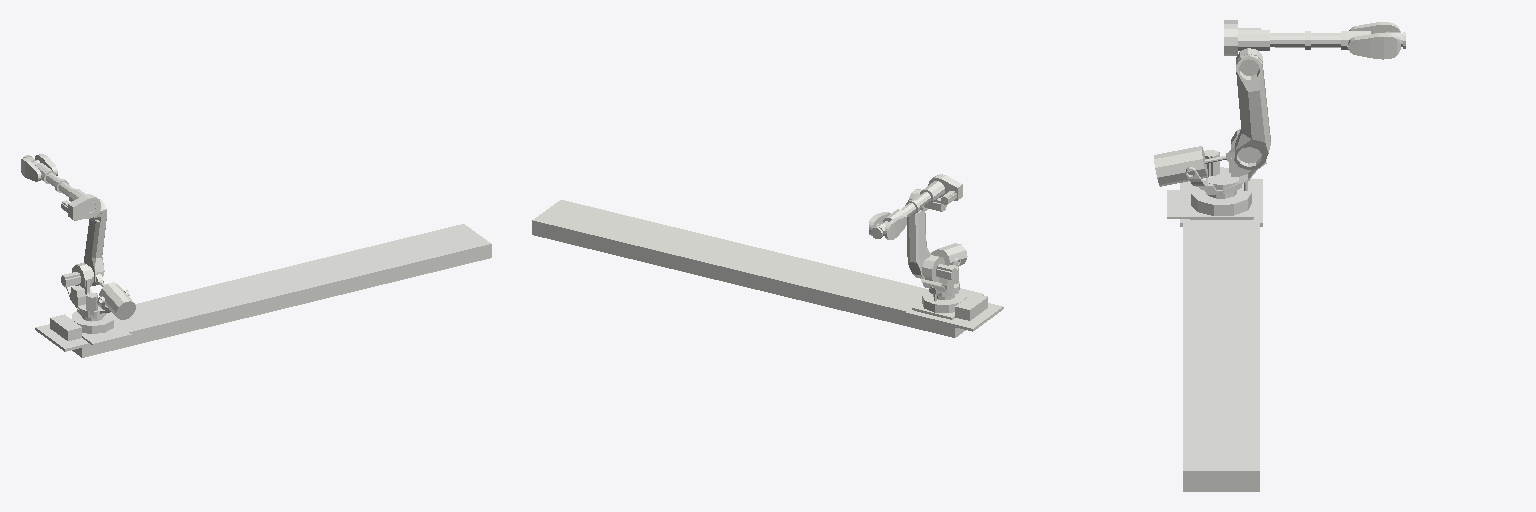
URDF robot description (aurora):
<?xml version="1.0" ?>
<!-- =================================================================================== -->
<!-- |    This document was autogenerated by xacro from /root/catkin_ws/src/abb_irbt6004_670_moveit_config/urdf/abb_irb6700_175_305_ibois.xacro | -->
<!-- |    EDITING THIS FILE BY HAND IS NOT RECOMMENDED                                 | -->
<!-- =================================================================================== -->
<robot name="aurora">
    <link name="world" />
    <joint name="world_joint" type="fixed">
        <parent link="world" />
        <child link="rob1_axis" />
        <!--<origin xyz="0 0.0 0.0" rpy="0.0 0.0 3.14159265358979323846" />-->
        <origin rpy="-0.00031264124506612164 -0.00031250271915146547 0.0004431808433690596" xyz="0 0.0 0.0" />
        <!--Update for the base frame of the track -->
    </joint>
    <!-- Conversion were obtained from http://www.e-paint.co.uk/Lab_values.asp
       unless otherwise stated. -->
    <link name="rob1_axis">
        <inertial>
            <mass value="120" />
            <inertia ixx="-4.98000" ixy="-0.00000" ixz="2.70000" iyy="-5.95200" iyz="-0.00000" izz="0.82800" />
            <origin xyz="0 0 0" rpy="0 0 0" />
        </inertial>
        <visual>
            <origin xyz="3.35 0.0 0.0" />
            <geometry>
                <mesh filename="package://abb_irbt6004_670_moveit_config/meshes/abb_irbt6004_670/visual/axis.stl" />
            </geometry>
            <material name="">
                <color rgba="0.9254902 0.9254902 0.9058824 1" />
            </material>
        </visual>
        <collision>
            <origin xyz="3.35 0.0 0.0" />
            <geometry>
                <mesh filename="package://abb_irbt6004_670_moveit_config/meshes/abb_irbt6004_670/collision/axis.stl" />
            </geometry>
        </collision>
    </link>
    <joint name="rob1_linear_axis_joint" type="prismatic">
        <parent link="rob1_axis" />
        <child link="rob1_pedestal" />
        <origin rpy="0 0 0" xyz="0 0 0" />
        <!--track origin or translation from origin-->
        <axis xyz="1 0 0" />
        <limit effort="100000" lower="0" upper="6.700" velocity="2.618" />
        <!--track limits or length-->
        <dynamics damping="0.2" friction="0" />
    </joint>
    <link name="rob1_pedestal">
        <inertial>
            <origin xyz="0.0 0.0 0.0" rpy="0 0 0" />
            <mass value="120.00000" />
            <inertia ixx="-4.98000" ixy="-0.00000" ixz="2.70000" iyy="-5.95200" iyz="-0.00000" izz="0.82800" />
        </inertial>
        <visual>
            <geometry>
                <mesh filename="package://abb_irbt6004_670_moveit_config/meshes/abb_irbt6004_670/visual/pedestal_250.stl" />
            </geometry>
            <material name="">
                <color rgba="0.9254902 0.9254902 0.9058824 1" />
            </material>
        </visual>
        <collision>
            <geometry>
                <mesh filename="package://abb_irbt6004_670_moveit_config/meshes/abb_irbt6004_670/collision/pedestal_250.stl" />
            </geometry>
        </collision>
    </link>
    <joint name="rob1_abb_joint" type="fixed">
        <parent link="rob1_pedestal" />
        <child link="rob1_base_link" />
        <origin rpy="0 0 1.57079632679489661923 " xyz="0 0 0 " />
        <!--rotation of robot pedestal 3.14159265358979323846 1.57079632679489661923-->
        <dynamics damping="0.2" friction="0" />
    </joint>
    <!-- Conversion were obtained from http://www.e-paint.co.uk/Lab_values.asp
       unless otherwise stated. -->
    <!-- link list -->
    <link name="rob1_base_link">
        <visual>
            <origin rpy="0 0 0" xyz="0 0 0" />
            <geometry>
                <mesh filename="package://abb_irb6700_support/meshes/irb6700/visual/base_link.stl" />
            </geometry>
            <material name="">
                <color rgba="0.9254902 0.9254902 0.9058824 1" />
            </material>
        </visual>
        <collision>
            <origin rpy="0 0 0" xyz="0 0 0" />
            <geometry>
                <mesh filename="package://abb_irb6700_support/meshes/irb6700/collision/base_link.stl" />
            </geometry>
            <material name="">
                <color rgba="1 1 0 1" />
            </material>
        </collision>
        <inertial>
            <mass value="0.1" />
            <origin xyz="0 0 0" rpy="0 0 0" />
            <inertia ixx="0.03" iyy="0.03" izz="0.03" ixy="0.0" ixz="0.0" iyz="0.0" />
        </inertial>
    </link>
    <link name="rob1_link_1">
        <visual>
            <origin rpy="0 0 0" xyz="0 0 0" />
            <geometry>
                <mesh filename="package://abb_irb6700_support/meshes/irb6700/visual/link_1.stl" />
            </geometry>
            <material name="">
                <color rgba="0.9254902 0.9254902 0.9058824 1" />
            </material>
        </visual>
        <collision>
            <origin rpy="0 0 0" xyz="0 0 0" />
            <geometry>
                <mesh filename="package://abb_irb6700_support/meshes/irb6700/collision/link_1.stl" />
            </geometry>
            <material name="">
                <color rgba="1 1 0 1" />
            </material>
        </collision>
        <inertial>
            <mass value="0.1" />
            <origin xyz="0 0 0" rpy="0 0 0" />
            <inertia ixx="0.03" iyy="0.03" izz="0.03" ixy="0.0" ixz="0.0" iyz="0.0" />
        </inertial>
    </link>
    <link name="rob1_cylinder">
        <visual>
            <origin rpy="0 0 0" xyz="0 0 0" />
            <geometry>
                <mesh filename="package://abb_irb6700_support/meshes/irb6700/visual/cylinder.stl" />
            </geometry>
            <material name="">
                <color rgba="0.9254902 0.9254902 0.9058824 1" />
            </material>
        </visual>
        <collision>
            <origin rpy="0 0 0" xyz="0 0 0" />
            <geometry>
                <mesh filename="package://abb_irb6700_support/meshes/irb6700/collision/cylinder.stl" />
            </geometry>
            <material name="">
                <color rgba="1 1 0 1" />
            </material>
        </collision>
        <inertial>
            <mass value="0.1" />
            <origin xyz="0 0 0" rpy="0 0 0" />
            <inertia ixx="0.03" iyy="0.03" izz="0.03" ixy="0.0" ixz="0.0" iyz="0.0" />
        </inertial>
    </link>
    <link name="rob1_piston">
        <visual>
            <origin rpy="0 0 0" xyz="0 0 0" />
            <geometry>
                <mesh filename="package://abb_irb6700_support/meshes/irb6700/visual/piston.stl" />
            </geometry>
            <material name="">
                <color rgba="0.9254902 0.9254902 0.9058824 1" />
            </material>
        </visual>
        <collision>
            <origin rpy="0 0 0" xyz="0 0 0" />
            <geometry>
                <mesh filename="package://abb_irb6700_support/meshes/irb6700/collision/piston.stl" />
            </geometry>
            <material name="">
                <color rgba="1 1 0 1" />
            </material>
        </collision>
        <inertial>
            <mass value="0.1" />
            <origin xyz="0 0 0" rpy="0 0 0" />
            <inertia ixx="0.03" iyy="0.03" izz="0.03" ixy="0.0" ixz="0.0" iyz="0.0" />
        </inertial>
    </link>
    <link name="rob1_link_2">
        <visual>
            <origin rpy="0 0 0" xyz="0 0 0" />
            <geometry>
                <mesh filename="package://abb_irb6700_support/meshes/irb6700_175_305/visual/link_2.stl" />
            </geometry>
            <material name="">
                <color rgba="0.9254902 0.9254902 0.9058824 1" />
            </material>
        </visual>
        <collision>
            <origin rpy="0 0 0" xyz="0 0 0" />
            <geometry>
                <mesh filename="package://abb_irb6700_support/meshes/irb6700_175_305/collision/link_2.stl" />
            </geometry>
            <material name="">
                <color rgba="1 1 0 1" />
            </material>
        </collision>
        <inertial>
            <mass value="0.1" />
            <origin xyz="0 0 0" rpy="0 0 0" />
            <inertia ixx="0.03" iyy="0.03" izz="0.03" ixy="0.0" ixz="0.0" iyz="0.0" />
        </inertial>
    </link>
    <link name="rob1_link_3">
        <visual>
            <origin rpy="0 0 0" xyz="0 0 0" />
            <geometry>
                <mesh filename="package://abb_irb6700_support/meshes/irb6700_175_305/visual/link_3.stl" />
            </geometry>
            <material name="">
                <color rgba="0.9254902 0.9254902 0.9058824 1" />
            </material>
        </visual>
        <collision>
            <origin rpy="0 0 0" xyz="0 0 0" />
            <geometry>
                <mesh filename="package://abb_irb6700_support/meshes/irb6700_175_305/collision/link_3.stl" />
            </geometry>
            <material name="">
                <color rgba="1 1 0 1" />
            </material>
        </collision>
        <inertial>
            <mass value="0.1" />
            <origin xyz="0 0 0" rpy="0 0 0" />
            <inertia ixx="0.03" iyy="0.03" izz="0.03" ixy="0.0" ixz="0.0" iyz="0.0" />
        </inertial>
    </link>
    <link name="rob1_link_4">
        <visual>
            <origin rpy="0 0 0" xyz="0 0 0" />
            <geometry>
                <mesh filename="package://abb_irb6700_support/meshes/irb6700_175_305/visual/link_4.stl" />
            </geometry>
            <material name="">
                <color rgba="0.9254902 0.9254902 0.9058824 1" />
            </material>
        </visual>
        <collision>
            <origin rpy="0 0 0" xyz="0 0 0" />
            <geometry>
                <mesh filename="package://abb_irb6700_support/meshes/irb6700_175_305/collision/link_4.stl" />
            </geometry>
            <material name="">
                <color rgba="1 1 0 1" />
            </material>
        </collision>
        <inertial>
            <mass value="0.1" />
            <origin xyz="0 0 0" rpy="0 0 0" />
            <inertia ixx="0.03" iyy="0.03" izz="0.03" ixy="0.0" ixz="0.0" iyz="0.0" />
        </inertial>
    </link>
    <link name="rob1_link_5">
        <visual>
            <origin rpy="0 0 0" xyz="0 0 0" />
            <geometry>
                <mesh filename="package://abb_irb6700_support/meshes/irb6700/visual/link_5.stl" />
            </geometry>
            <material name="">
                <color rgba="0.9254902 0.9254902 0.9058824 1" />
            </material>
        </visual>
        <collision>
            <origin rpy="0 0 0" xyz="0 0 0" />
            <geometry>
                <mesh filename="package://abb_irb6700_support/meshes/irb6700/collision/link_5.stl" />
            </geometry>
            <material name="">
                <color rgba="1 1 0 1" />
            </material>
        </collision>
        <inertial>
            <mass value="0.1" />
            <origin xyz="0 0 0" rpy="0 0 0" />
            <inertia ixx="0.03" iyy="0.03" izz="0.03" ixy="0.0" ixz="0.0" iyz="0.0" />
        </inertial>
    </link>
    <link name="rob1_link_6">
        <visual>
            <origin rpy="0 0 0" xyz="0 0 0" />
            <geometry>
                <mesh filename="package://abb_irb6700_support/meshes/irb6700/visual/link_6.stl" />
            </geometry>
            <material name="">
                <color rgba="0.9254902 0.9254902 0.9058824 1" />
            </material>
        </visual>
        <collision>
            <origin rpy="0 0 0" xyz="0 0 0" />
            <geometry>
                <mesh filename="package://abb_irb6700_support/meshes/irb6700/collision/link_6.stl" />
            </geometry>
            <material name="">
                <color rgba="1 1 0 1" />
            </material>
        </collision>
        <inertial>
            <mass value="0.1" />
            <origin xyz="0 0 0" rpy="0 0 0" />
            <inertia ixx="0.03" iyy="0.03" izz="0.03" ixy="0.0" ixz="0.0" iyz="0.0" />
        </inertial>
    </link>
    <joint name="rob1_joint_1" type="revolute">
        <origin rpy="0 0 0" xyz="0 0 0.78" />
        <parent link="rob1_base_link" />
        <child link="rob1_link_1" />
        <axis xyz="0 0 1" />
        <limit effort="0" lower="-2.9670597283903604" upper="2.9670597283903604" velocity="1.9198621771937625" />
    </joint>
    <joint name="rob1_joint_2" type="revolute">
        <origin rpy="0 0 0" xyz="0.32 0 0" />
        <parent link="rob1_link_1" />
        <child link="rob1_link_2" />
        <axis xyz="0 1 0" />
        <limit effort="0" lower="-1.1344640137963142" upper="1.4835298641951802" velocity="1.9198621771937625" />
    </joint>
    <joint name="rob1_joint_3" type="revolute">
        <origin rpy="0 0 0" xyz="0 0 1.135" />
        <parent link="rob1_link_2" />
        <child link="rob1_link_3" />
        <axis xyz="0 1 0" />
        <limit effort="0" lower="-3.141592653589793" upper="1.2217304763960306" velocity="1.9198621771937625" />
    </joint>
    <joint name="rob1_joint_4" type="revolute">
        <origin rpy="0 0 0" xyz="0 0 0.2" />
        <parent link="rob1_link_3" />
        <child link="rob1_link_4" />
        <axis xyz="1 0 0" />
        <limit effort="0" lower="-5.235987755982989" upper="5.235987755982989" velocity="3.3161255787892263" />
    </joint>
    <joint name="rob1_joint_5" type="revolute">
        <origin rpy="0 0 0" xyz="1.593 0 0" />
        <parent link="rob1_link_4" />
        <child link="rob1_link_5" />
        <axis xyz="0 1 0" />
        <limit effort="0" lower="-2.2689280275926285" upper="2.2689280275926285" velocity="2.6179938779914944" />
    </joint>
    <joint name="rob1_joint_6" type="revolute">
        <origin rpy="0 0 0" xyz="0.2 0 0" />
        <parent link="rob1_link_5" />
        <child link="rob1_link_6" />
        <axis xyz="1 0 0" />
        <limit effort="0" lower="-6.283185307179586" upper="6.283185307179586" velocity="3.6651914291880923" />
    </joint>
    <joint name="rob1_cylinder_joint" type="revolute">
        <origin rpy="0 0 0" xyz="-0.349 -0.194 -0.142" />
        <parent link="rob1_link_1" />
        <child link="rob1_cylinder" />
        <axis xyz="0 1 0" />
        <mimic joint="rob1_joint_2" multiplier="-0.25" />
        <limit effort="0" lower="-0.28361600344907856" upper="0.37088246604879505" velocity="100" />
    </joint>
    <joint name="rob1_piston_joint" type="prismatic">
        <origin rpy="0.20897 0 -1.5707963267948966" xyz="0 0 0" />
        <parent link="rob1_cylinder" />
        <child link="rob1_piston" />
        <axis xyz="0 1 0" />
        <mimic joint="rob1_joint_2" multiplier="0.15" />
        <limit effort="0" lower="-0.25" upper="0.25" velocity="100" />
    </joint>
    <!-- ROS-Industrial 'base' frame: base_link to ABB World Coordinates transform -->
    <link name="rob1_base" />
    <joint name="rob1_base_link-base" type="fixed">
        <origin rpy="0 0 0" xyz="0 0 0" />
        <parent link="rob1_base_link" />
        <child link="rob1_base" />
    </joint>
    <!-- ROS-Industrial 'flange' frame: attachment point for EEF models -->
    <link name="rob1_flange" />
    <joint name="rob1_joint_6-flange" type="fixed">
        <origin rpy="0 0 0" xyz="0 0 0" />
        <parent link="rob1_link_6" />
        <child link="rob1_flange" />
    </joint>
    <!-- ROS-Industrial 'tool0' frame: all-zeros tool frame -->
    <link name="rob1_tool0" />
    <joint name="rob1_link_6-tool0" type="fixed">
        <origin rpy="0 1.5707963267948966 0" xyz="0 0 0" />
        <parent link="rob1_flange" />
        <child link="rob1_tool0" />
    </joint>
    <!--for multiple robots-->
    <transmission name="trans_rob1_linear_axis_joint">
        <type>transmission_interface/SimpleTransmission</type>
        <joint name="rob1_linear_axis_joint">
            <hardwareInterface>hardware_interface/EffortJointInterface</hardwareInterface>
        </joint>
        <actuator name="rob1_linear_axis_joint_motor">
            <hardwareInterface>hardware_interface/EffortJointInterface</hardwareInterface>
            <mechanicalReduction>1</mechanicalReduction>
        </actuator>
    </transmission>
    <transmission name="trans_rob1_joint_1">
        <type>transmission_interface/SimpleTransmission</type>
        <joint name="rob1_joint_1">
            <hardwareInterface>hardware_interface/EffortJointInterface</hardwareInterface>
        </joint>
        <actuator name="rob1_joint_1_motor">
            <hardwareInterface>hardware_interface/EffortJointInterface</hardwareInterface>
            <mechanicalReduction>1</mechanicalReduction>
        </actuator>
    </transmission>
    <transmission name="trans_rob1_joint_2">
        <type>transmission_interface/SimpleTransmission</type>
        <joint name="rob1_joint_2">
            <hardwareInterface>hardware_interface/EffortJointInterface</hardwareInterface>
        </joint>
        <actuator name="rob1_joint_2_motor">
            <hardwareInterface>hardware_interface/EffortJointInterface</hardwareInterface>
            <mechanicalReduction>1</mechanicalReduction>
        </actuator>
    </transmission>
    <transmission name="trans_rob1_joint_3">
        <type>transmission_interface/SimpleTransmission</type>
        <joint name="rob1_joint_3">
            <hardwareInterface>hardware_interface/EffortJointInterface</hardwareInterface>
        </joint>
        <actuator name="rob1_joint_3_motor">
            <hardwareInterface>hardware_interface/EffortJointInterface</hardwareInterface>
            <mechanicalReduction>1</mechanicalReduction>
        </actuator>
    </transmission>
    <transmission name="trans_rob1_joint_4">
        <type>transmission_interface/SimpleTransmission</type>
        <joint name="rob1_joint_4">
            <hardwareInterface>hardware_interface/EffortJointInterface</hardwareInterface>
        </joint>
        <actuator name="rob1_joint_4_motor">
            <hardwareInterface>hardware_interface/EffortJointInterface</hardwareInterface>
            <mechanicalReduction>1</mechanicalReduction>
        </actuator>
    </transmission>
    <transmission name="trans_rob1_joint_5">
        <type>transmission_interface/SimpleTransmission</type>
        <joint name="rob1_joint_5">
            <hardwareInterface>hardware_interface/EffortJointInterface</hardwareInterface>
        </joint>
        <actuator name="rob1_joint_5_motor">
            <hardwareInterface>hardware_interface/EffortJointInterface</hardwareInterface>
            <mechanicalReduction>1</mechanicalReduction>
        </actuator>
    </transmission>
    <transmission name="trans_rob1_joint_6">
        <type>transmission_interface/SimpleTransmission</type>
        <joint name="rob1_joint_6">
            <hardwareInterface>hardware_interface/EffortJointInterface</hardwareInterface>
        </joint>
        <actuator name="rob1_joint_6_motor">
            <hardwareInterface>hardware_interface/EffortJointInterface</hardwareInterface>
            <mechanicalReduction>1</mechanicalReduction>
        </actuator>
    </transmission>
    <transmission name="trans_rob1_cylinder_joint">
        <type>transmission_interface/SimpleTransmission</type>
        <joint name="rob1_cylinder_joint">
            <hardwareInterface>hardware_interface/EffortJointInterface</hardwareInterface>
        </joint>
        <actuator name="rob1_cylinder_joint_motor">
            <hardwareInterface>hardware_interface/EffortJointInterface</hardwareInterface>
            <mechanicalReduction>1</mechanicalReduction>
        </actuator>
    </transmission>
    <transmission name="trans_rob1_piston_joint">
        <type>transmission_interface/SimpleTransmission</type>
        <joint name="rob1_piston_joint">
            <hardwareInterface>hardware_interface/EffortJointInterface</hardwareInterface>
        </joint>
        <actuator name="rob1_piston_joint_motor">
            <hardwareInterface>hardware_interface/EffortJointInterface</hardwareInterface>
            <mechanicalReduction>1</mechanicalReduction>
        </actuator>
    </transmission>
    <gazebo>
        <plugin name="gazebo_ros_control">
            <robotNamespace>/</robotNamespace>
        </plugin>
    </gazebo>
</robot>

--- Facts derived from the render (not from the file) ---
Views: 3 orthographic renders of the robot side by side, from view 1: azimuth 30°, elevation 25°; view 2: azimuth 150°, elevation 25°; view 3: azimuth 270°, elevation 25°.
Model aurora with 15 links and 14 joints (7 revolute, 2 prismatic, 5 fixed), rooted at world, posed all joints at 0.
Links seen in each view (by area): view 1: rob1_axis, rob1_base_link, rob1_link_1, rob1_link_2, rob1_link_4, rob1_link_3, rob1_cylinder, rob1_pedestal; view 2: rob1_axis, rob1_base_link, rob1_link_1, rob1_link_2, rob1_link_3, rob1_link_4, rob1_pedestal; view 3: rob1_axis, rob1_link_2, rob1_link_4, rob1_base_link, rob1_link_1, rob1_link_3, rob1_cylinder.
Boxes of the visible links, bbox=[...] form: rob1_axis: bbox=[72, 224, 491, 357]; rob1_base_link: bbox=[50, 311, 131, 345]; rob1_link_1: bbox=[61, 263, 129, 317]; rob1_link_2: bbox=[84, 199, 106, 285]; rob1_link_4: bbox=[21, 154, 95, 211]; rob1_link_3: bbox=[61, 189, 102, 220]; rob1_cylinder: bbox=[99, 282, 135, 319]; rob1_pedestal: bbox=[35, 324, 90, 351]; rob1_axis: bbox=[532, 200, 965, 337]; rob1_base_link: bbox=[912, 288, 987, 320]; rob1_link_1: bbox=[921, 252, 960, 301]; rob1_link_2: bbox=[907, 189, 930, 278]; rob1_link_3: bbox=[914, 174, 962, 211]; rob1_link_4: bbox=[869, 192, 930, 239]; rob1_pedestal: bbox=[906, 303, 1003, 331]; rob1_axis: bbox=[1183, 191, 1259, 491]; rob1_link_2: bbox=[1226, 54, 1270, 169]; rob1_link_4: bbox=[1270, 22, 1400, 59]; rob1_base_link: bbox=[1167, 183, 1253, 219]; rob1_link_1: bbox=[1186, 129, 1266, 194]; rob1_link_3: bbox=[1224, 20, 1269, 75]; rob1_cylinder: bbox=[1154, 146, 1207, 186].
Size in the robot's own frame: 7.94 by 2.89 by 2.54 metres.
11 mesh visuals loaded from 11 distinct referenced files (11 binary STL).
